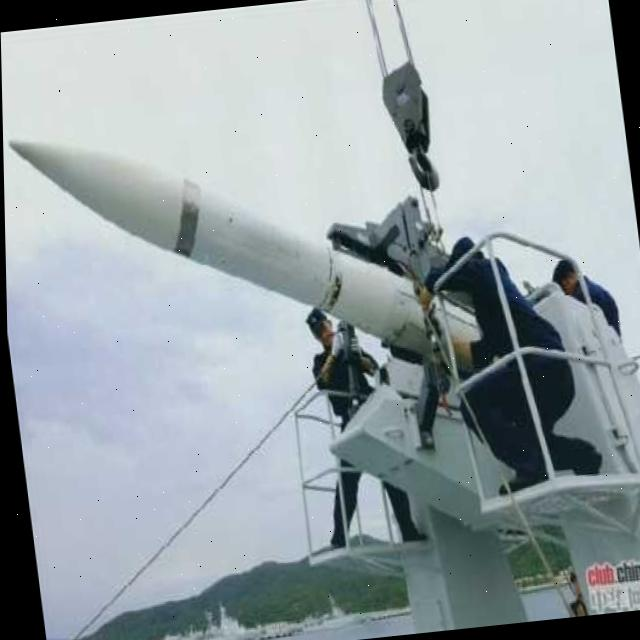missile: (4, 90, 516, 440)
